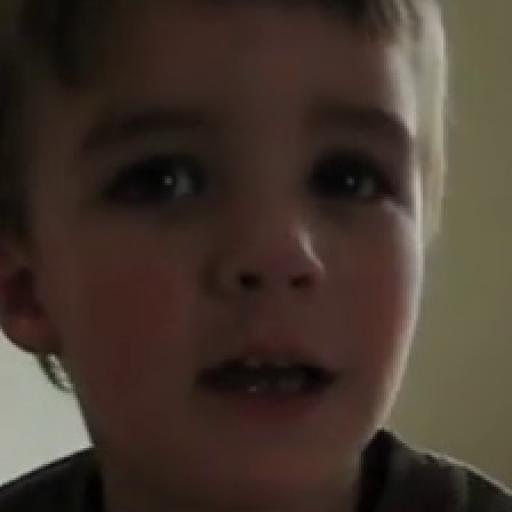Autism: (36, 26, 464, 476)
